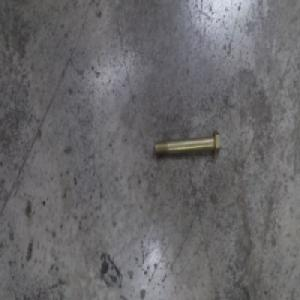Bolt: (152, 128, 220, 158)
